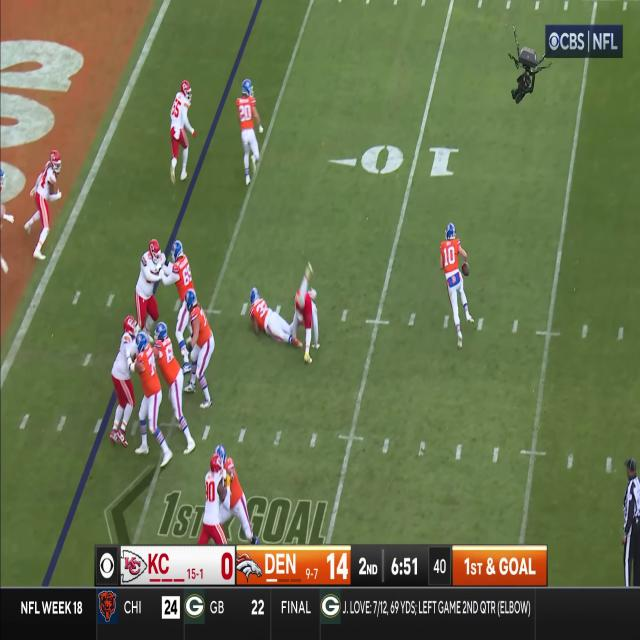Player: (438, 222, 469, 351), (156, 322, 184, 455), (185, 288, 215, 411), (136, 334, 162, 458), (110, 316, 134, 450), (33, 148, 61, 262), (198, 451, 230, 544), (134, 237, 166, 329), (236, 79, 264, 184), (172, 238, 194, 370), (168, 79, 194, 182), (292, 268, 319, 364), (249, 286, 292, 343), (223, 445, 247, 542)
Referee: (620, 459, 640, 587)
